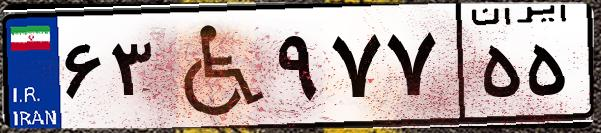3: (110, 28, 158, 98)
5: (475, 38, 525, 113), (525, 38, 570, 115)
6: (57, 26, 110, 100)
7: (385, 28, 445, 110), (330, 28, 385, 110)
9: (270, 28, 330, 110)
ژ (معلولین و جانبازان): (158, 12, 270, 120)
